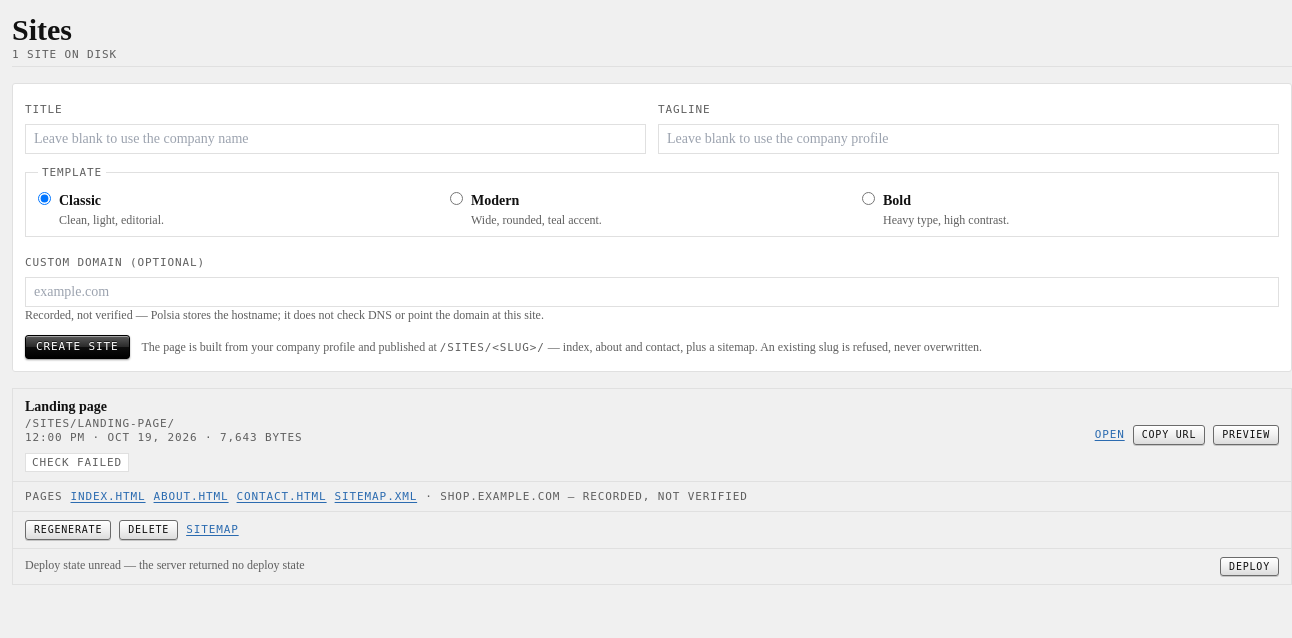
Test case: /sites — the regenerate control › posts to the site's regenerate route and re-reads the list
Click the button with aria-label "Regenerate Landing page": (68, 530) [25,520,111,540]
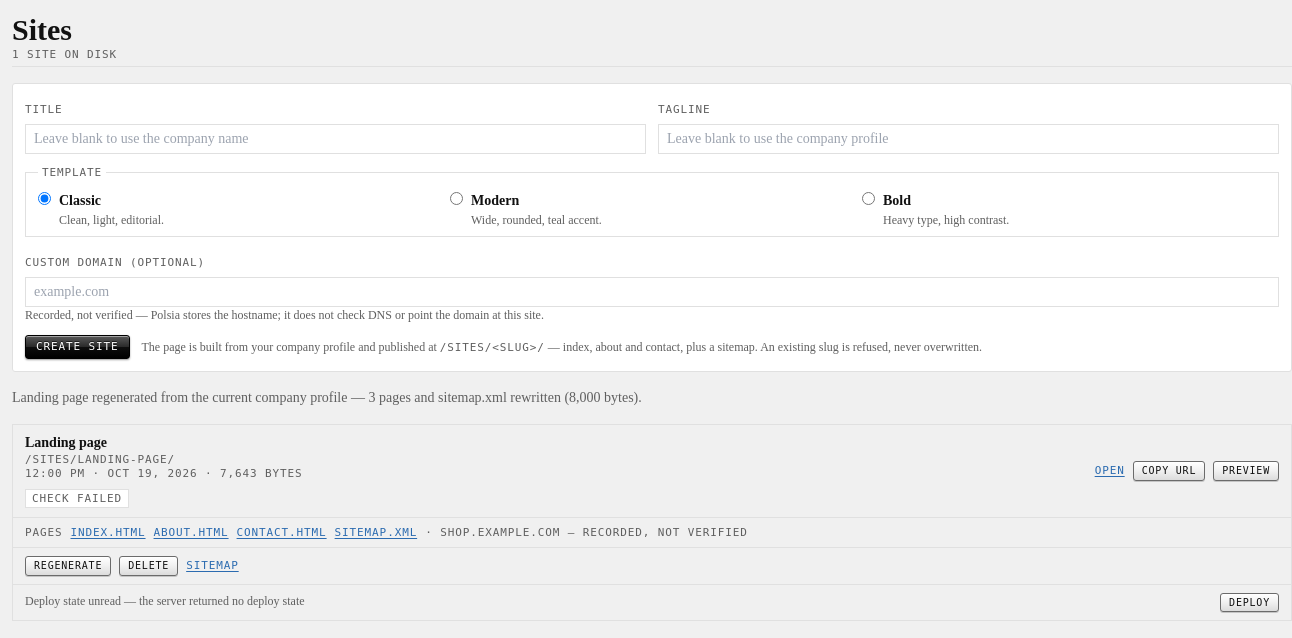
Expected: the text with test id "sites-lifecycle-notice" shows "regenerated", [12,390,642,405]
